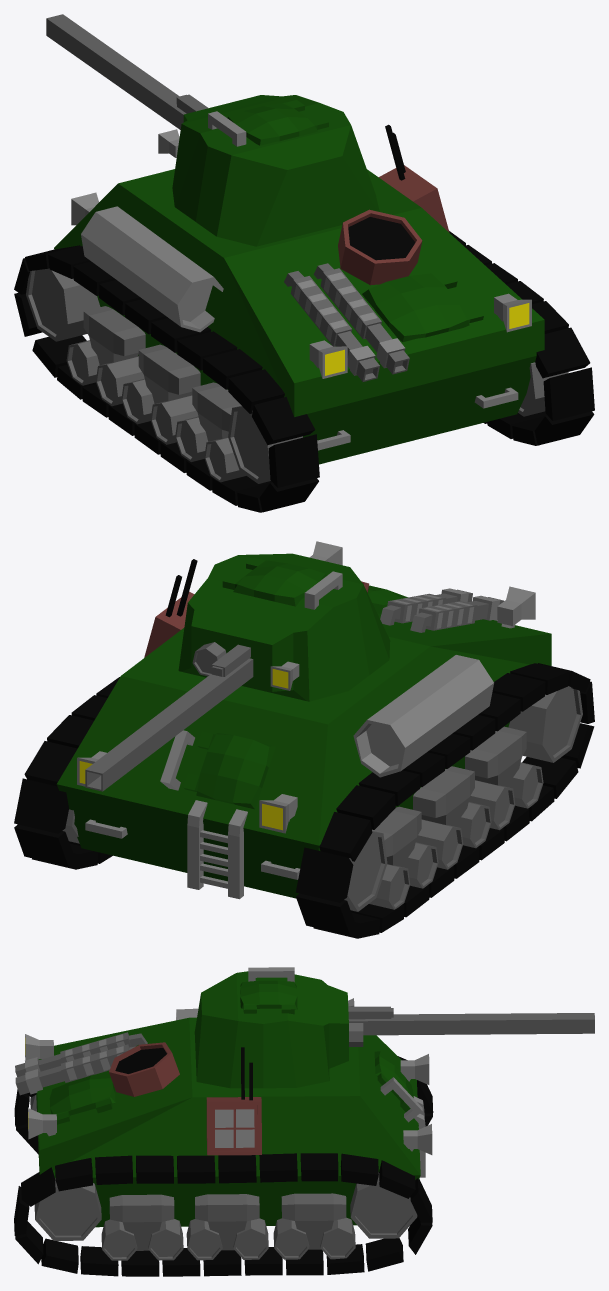
Rendered from default_tank.glb.
The picture shows the model from 3 angles, top to bottom: view 1: azimuth 30°, elevation 25°; view 2: azimuth 150°, elevation 25°; view 3: azimuth 270°, elevation 25°; orthographic projection. The views are drawn at different scales.
Visible parts, largest first — view 1: Cube.020, Cube.002; view 2: Cube.020, Cube.002; view 3: Cube.020, Cube.002.
Part boxes in pixels (left/top/right/bottom): Cube.020: left=14, top=124, right=594, bottom=512; Cube.002: left=46, top=14, right=379, bottom=246; Cube.020: left=14, top=541, right=594, bottom=938; Cube.002: left=85, top=553, right=390, bottom=791; Cube.020: left=14, top=1008, right=433, bottom=1276; Cube.002: left=194, top=967, right=594, bottom=1088.
Bounding box in the file's own units: 2.58 × 2.09 × 4.9.
